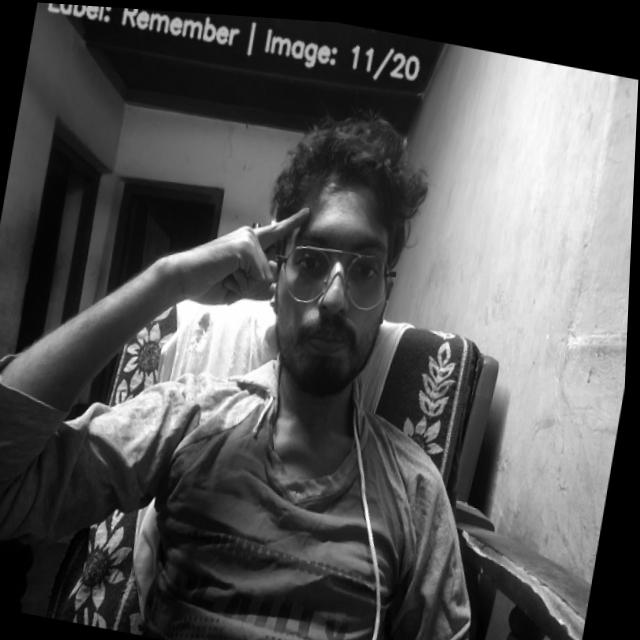Remember: (166, 179, 314, 322)
